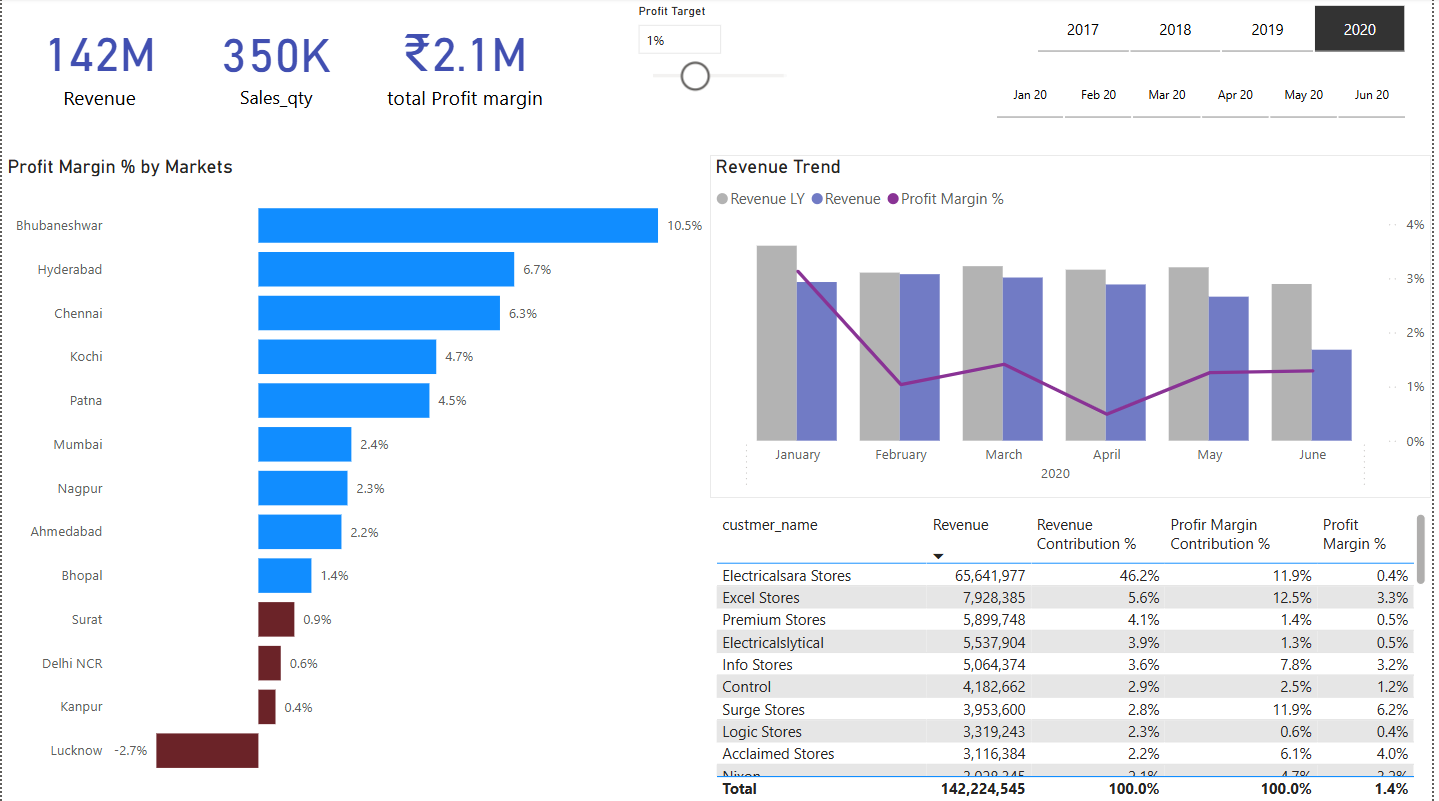

What the dashboard file says about the page in this screenshot:
{"tool":"powerbi","page":{"name":"performance Insights","canvas":[1280,720],"ordinal":1},"visuals":[{"type":"card","fields":{"Values":["base measures.Revenue"]},"box":[0,0,174.7,165],"z":0},{"type":"card","fields":{"Values":["base measures.Sales_qty"]},"box":[170.8,0,149.4,165],"z":1000},{"type":"barChart","title":"Profit % by Markets","fields":{"Y":["base measures.Profit Margin %"],"Category":["sales markets.markets_name"]},"box":[459,165,244.5,549.3],"z":2000},{"type":"barChart","title":"Profit Contribution % by Markets","fields":{"Category":["sales markets.markets_name"],"Y":["base measures.Profir Margin Contribution %"]},"box":[245.5,165,213.5,553.1],"z":3000},{"type":"slicer","fields":{"Values":["sales date.year"]},"box":[512.4,0,334.8,82.5],"z":4000},{"type":"slicer","fields":{"Values":["sales date.cy_date"]},"box":[847.2,0,432.8,82.5],"z":5000},{"type":"tableEx","title":"Top 5 Customers","fields":{"Values":["sales customers.custmer_name","base measures.Revenue","base measures.Revenue Contribution %","base measures.Profir Margin Contribution %","base measures.Profit Margin %"]},"box":[703.6,394,576.4,328],"z":6000},{"type":"lineChart","title":"Revenue Trend","fields":{"Y":["base measures.Revenue"],"Category":["sales date.cy_date.Variation.Date Hierarchy.Year","sales date.cy_date.Variation.Date Hierarchy.Quarter","sales date.cy_date.Variation.Date Hierarchy.Month","sales date.cy_date.Variation.Date Hierarchy.Day"]},"box":[703.6,238.7,551.2,155.3],"z":7000},{"type":"card","fields":{"Values":["base measures.total Profit margin"]},"box":[320.2,0,188.3,165],"z":8000},{"type":"barChart","title":"RevenueContribution % by Markets","fields":{"Category":["sales markets.markets_name"],"Y":["base measures.Revenue Contribution %"]},"box":[10.7,165,222.2,553.1],"z":9000},{"type":"donutChart","title":"Revenue by Customer Type","fields":{"Y":["base measures.Revenue"],"Category":["sales customers.customer_type"]},"box":[696.8,90.3,563.8,149.4],"z":10000}]}

Visuals, with their boxes in screenshot pixels (x1, y1, x2, y2), scaled from the page's 1280x720 canvas onto the 1439x801 screenshot:
card - base measures.Revenue: 0/0/196/184
card - base measures.Sales_qty: 192/0/360/184
"Profit % by Markets" barChart: 516/184/791/795
"Profit Contribution % by Markets" barChart: 276/184/516/799
slicer - sales date.year: 576/0/952/92
slicer - sales date.cy_date: 952/0/1438/92
"Top 5 Customers" tableEx: 791/438/1438/800
"Revenue Trend" lineChart: 791/266/1411/438
card - base measures.total Profit margin: 360/0/572/184
"RevenueContribution % by Markets" barChart: 12/184/262/799
"Revenue by Customer Type" donutChart: 783/100/1417/267
